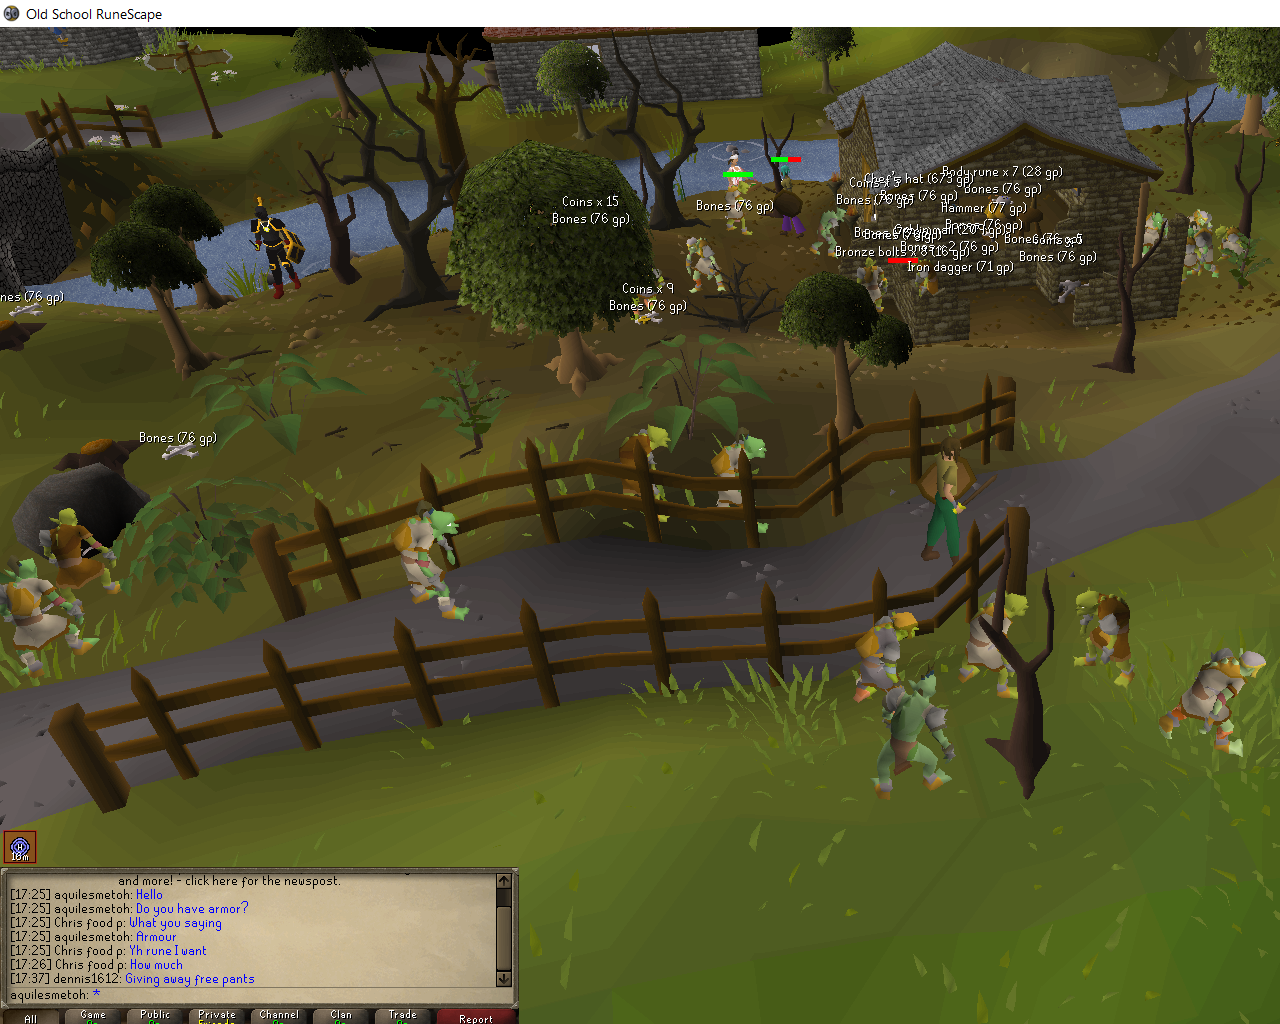Goblin: (1156, 641, 1270, 761), (1, 559, 106, 676), (870, 671, 963, 796), (386, 501, 476, 623), (30, 504, 125, 611), (701, 427, 778, 539), (963, 586, 1035, 703), (1070, 585, 1140, 690), (613, 422, 680, 531), (853, 603, 920, 709), (681, 236, 730, 299), (1138, 205, 1176, 267), (808, 203, 848, 260), (1187, 223, 1224, 281), (854, 255, 889, 315), (723, 180, 758, 238), (630, 275, 667, 323), (1174, 232, 1208, 281), (1215, 224, 1252, 266), (1184, 205, 1221, 236)
